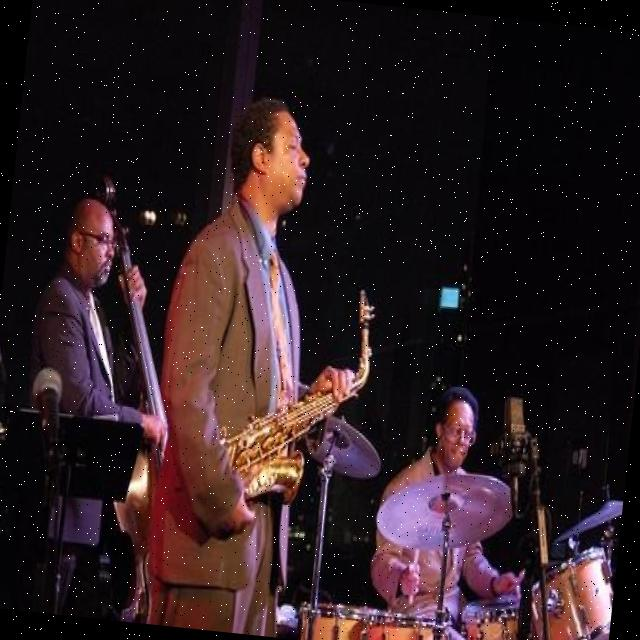drums: (280, 403, 629, 640)
saxophone: (181, 272, 394, 534)
